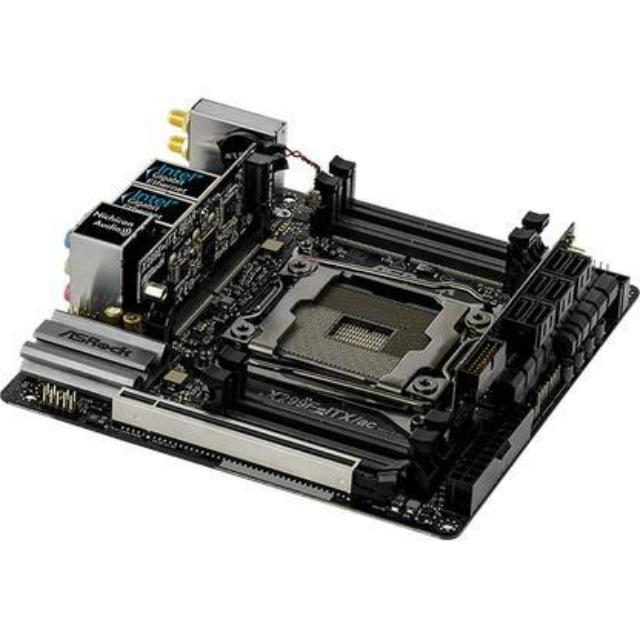Mainboard: (0, 118, 640, 544)
